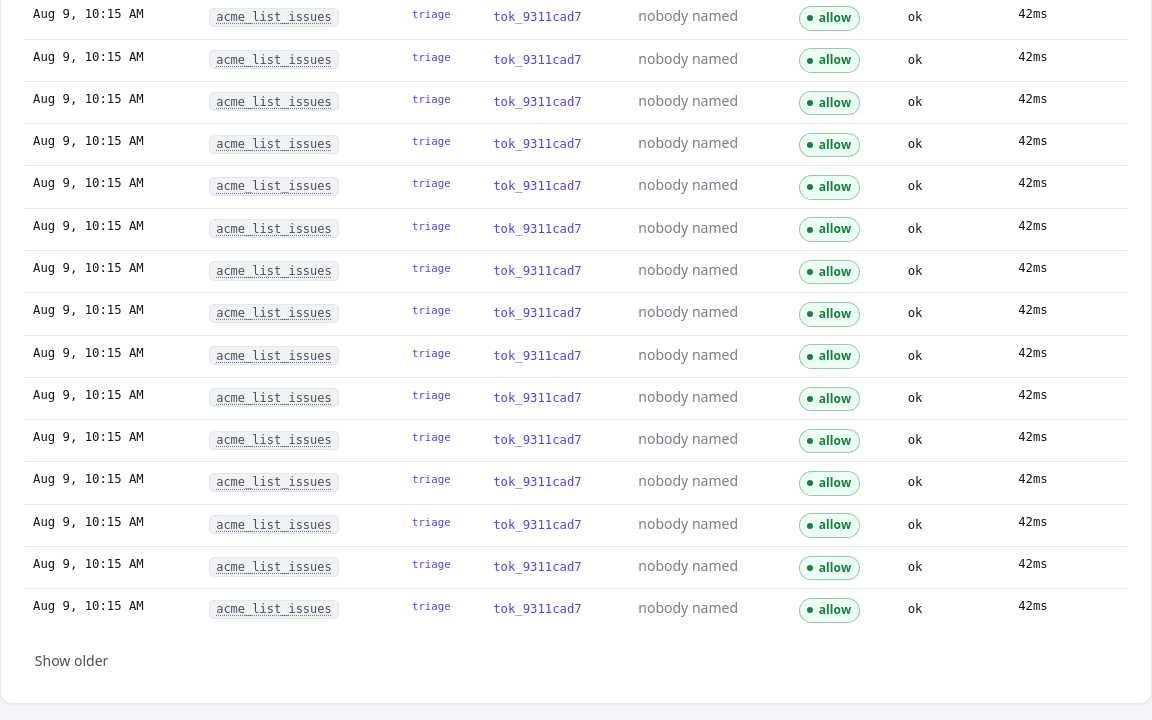
it: the log › asks for the rows before the oldest shown, under the same filters
The image size is (1152, 720).
(page scrolled)
What coordinates should you click on to do the following:
click the button "Show older"
I would click on:
 (72, 661)
Its box is [25,643,118,679].
(page scrolled)
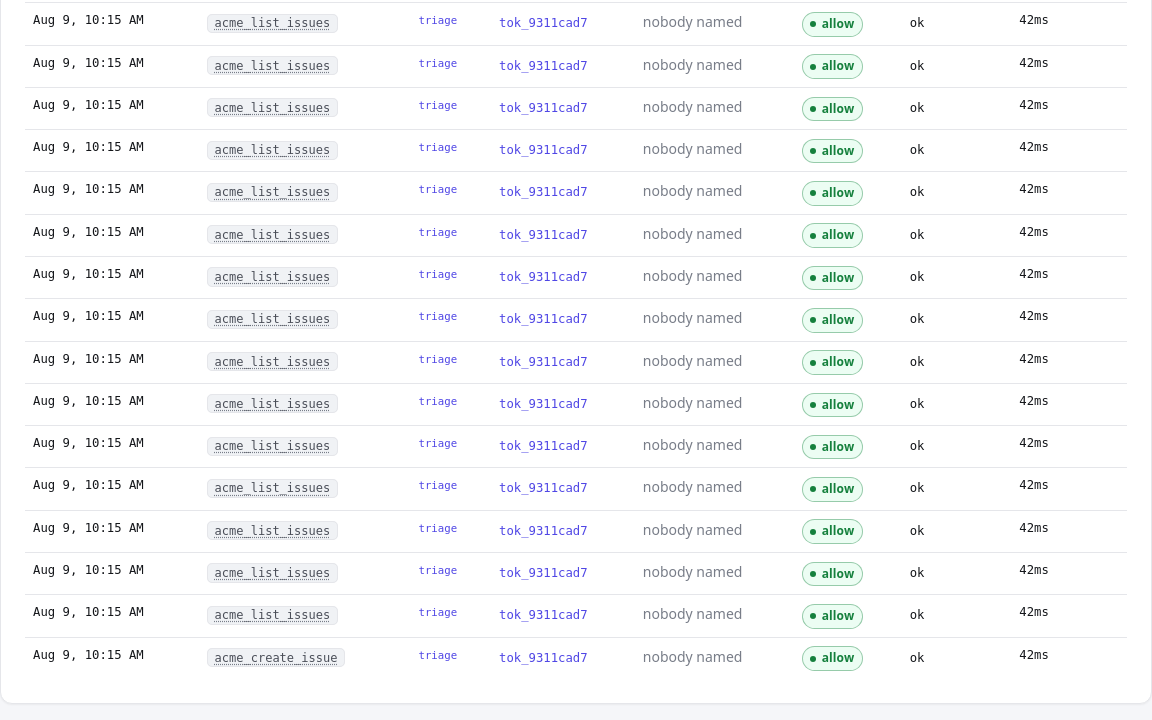
Check: the button "acme_create_issue" is shown, box [215,649,337,667]
Check: the button "Show older" is gone
